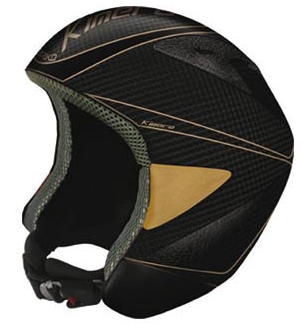helmet: (16, 10, 284, 293)
